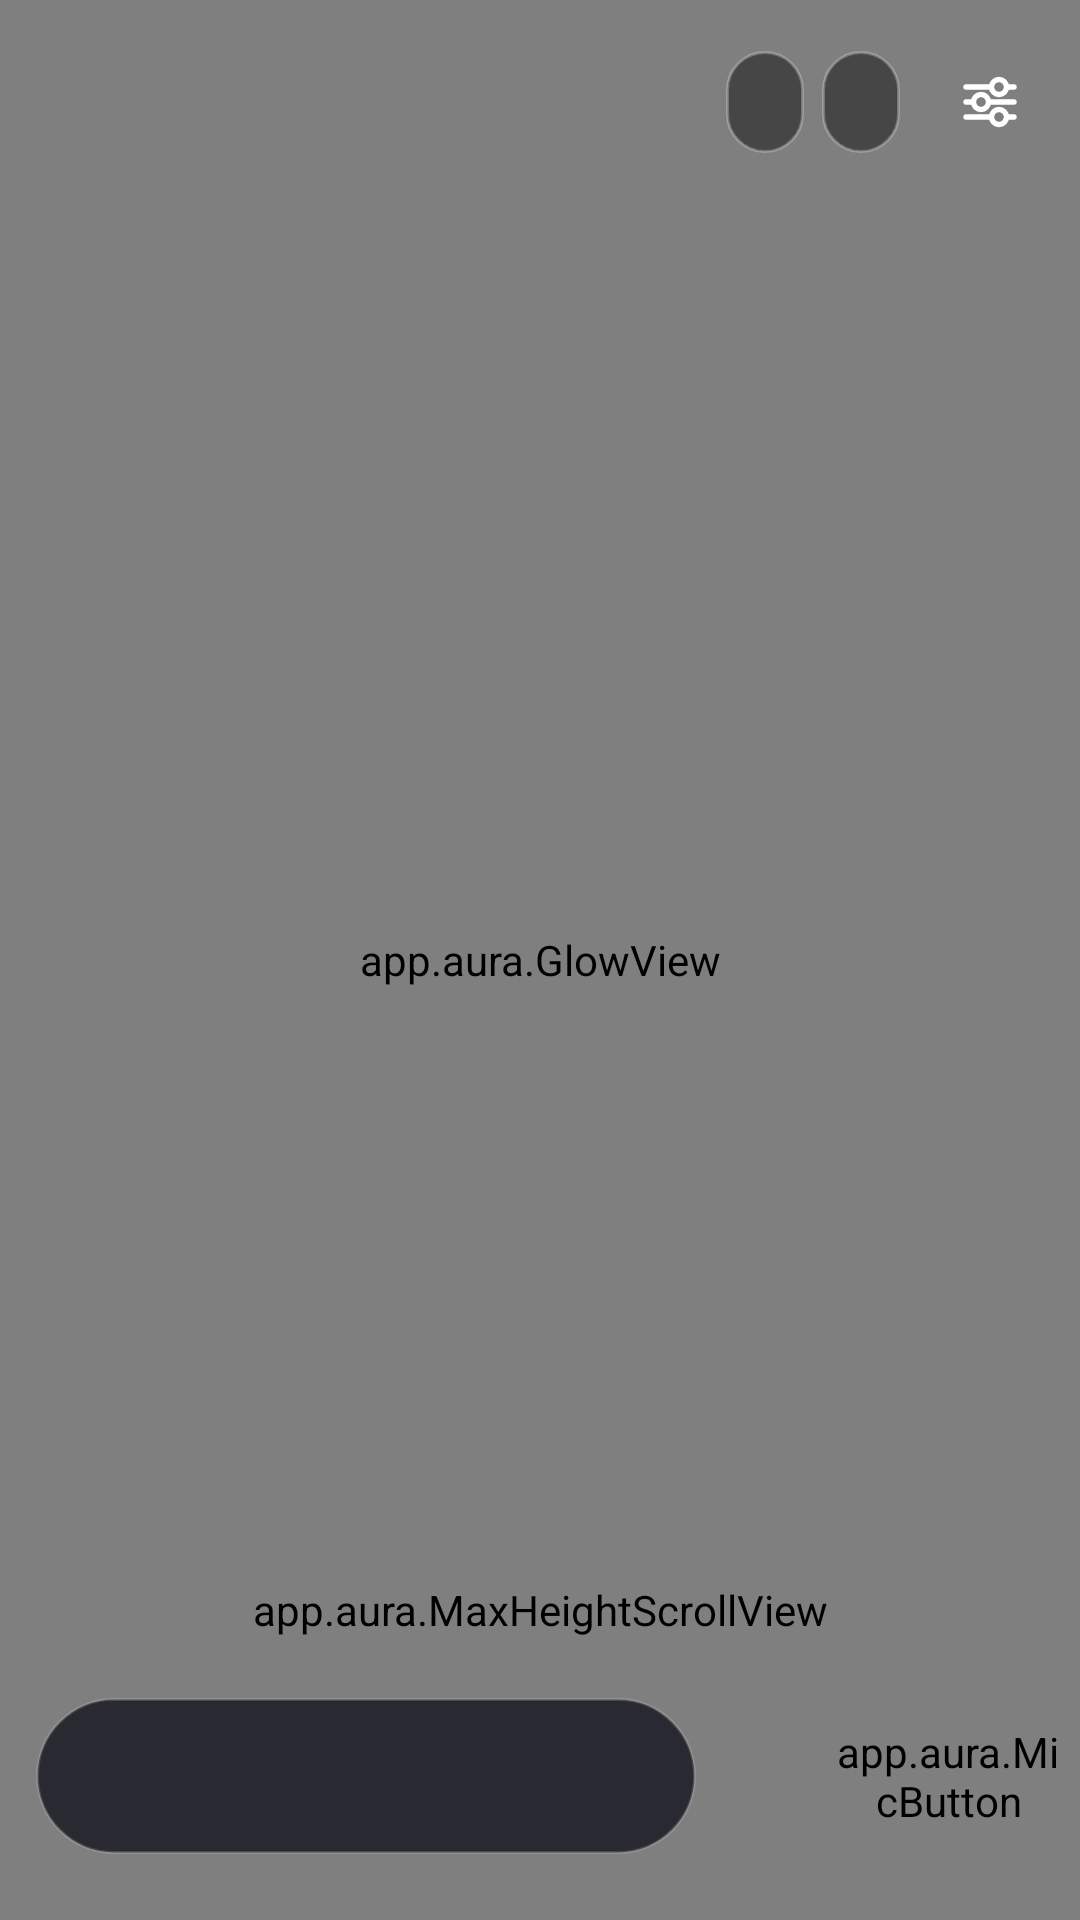

Screen size 1080*1920. Icon name, then its box in pixels as (x1, y1, x2, y2):
tune: (963, 77, 1017, 127)
